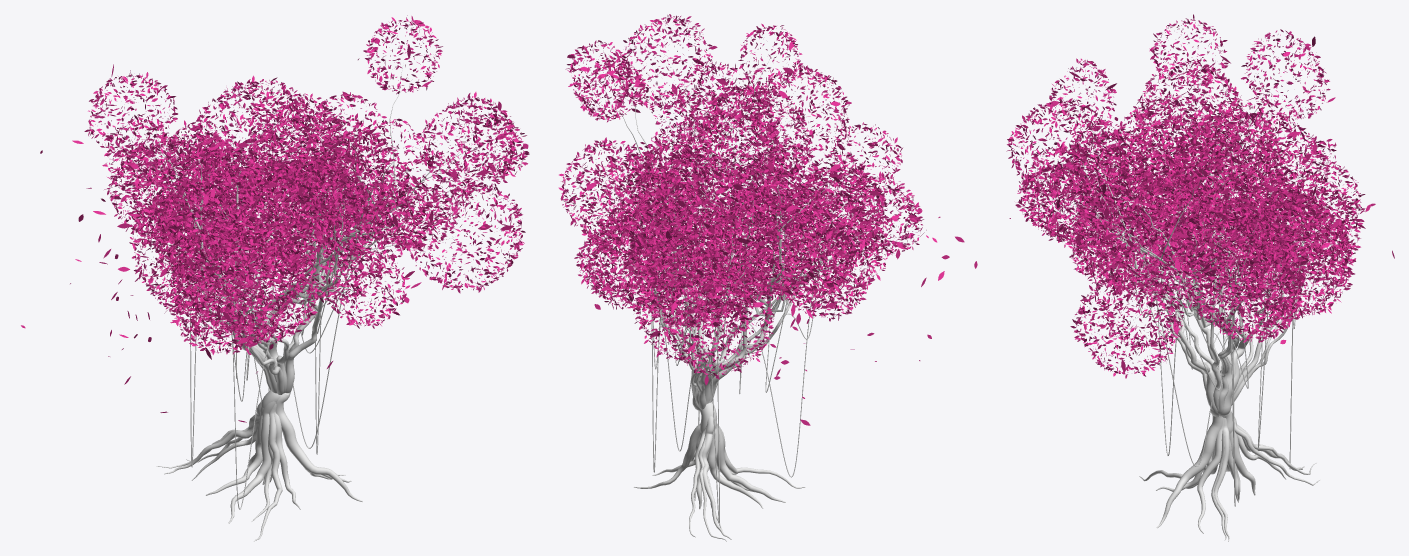
File: tree3.fbx
3 views of the same model, side by side, from view 1: azimuth 30°, elevation 25°; view 2: azimuth 150°, elevation 25°; view 3: azimuth 270°, elevation 25° (orthographic). The views are drawn at different scales.
Visible parts, largest first — view 1: Tree; view 2: Tree; view 3: Tree.
Boxes of the visible parts, box(x1,y1,x2,y2) form: Tree: box(21, 15, 529, 541); Tree: box(558, 14, 977, 541); Tree: box(1006, 14, 1394, 541).
Size of the model in its own units: 543 by 516 by 408.
